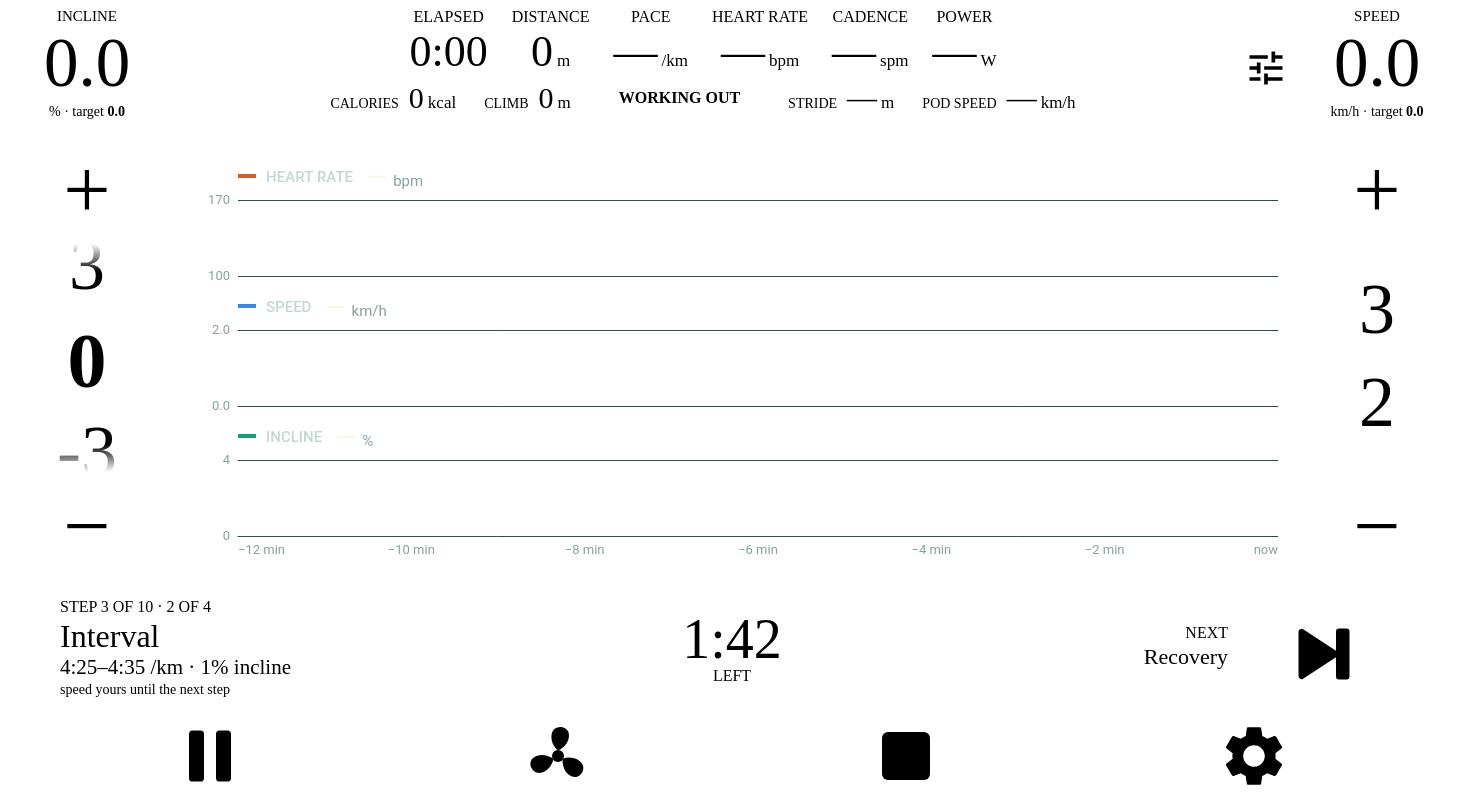
Scenario: workout › shows whose the speed is, and hands it back from the speed menu
(page scrolled)
Click the picture named "Speed: manual": (1266, 68) [1244, 46, 1288, 90]
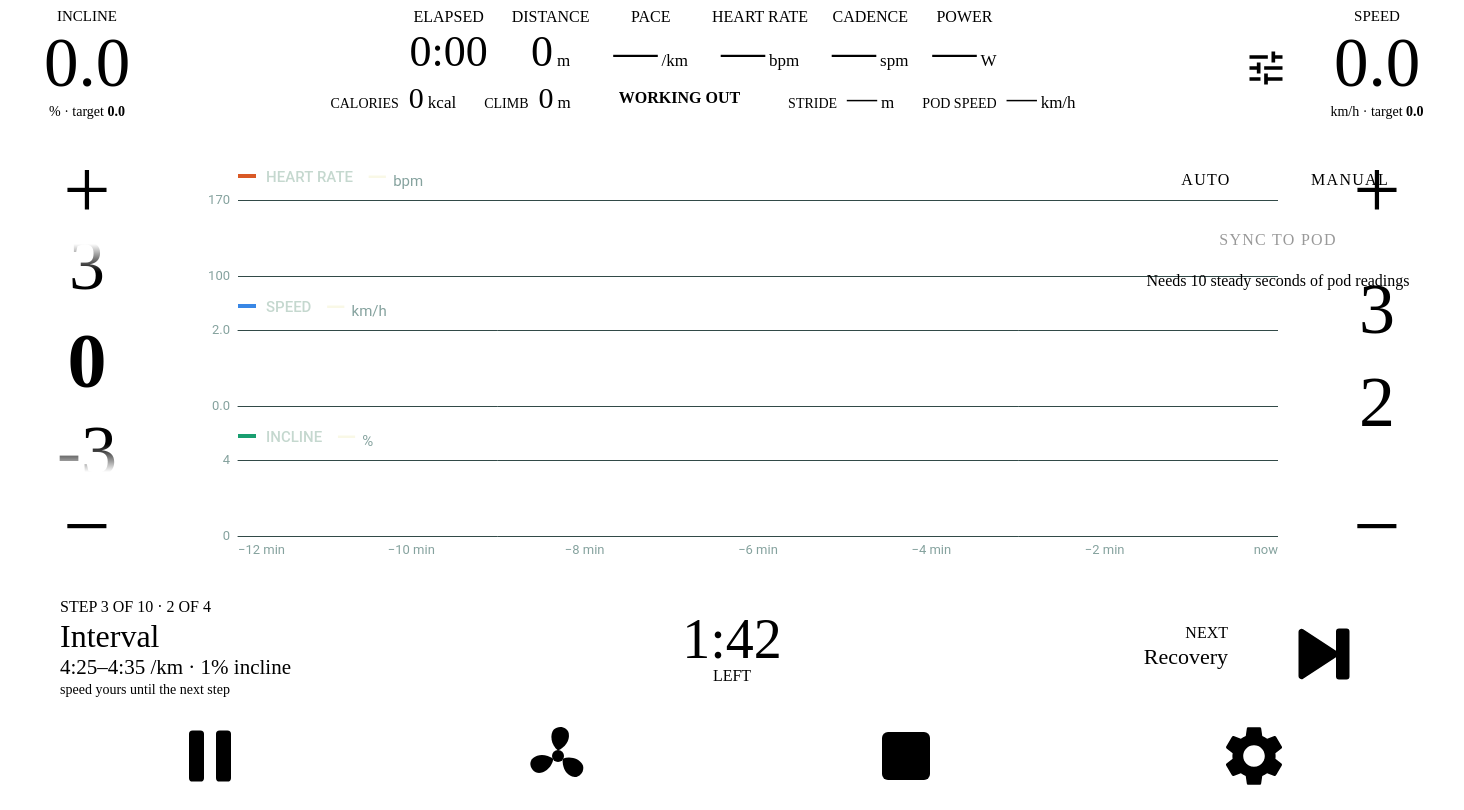
Click the button "AUTO": (1206, 180) [1138, 154, 1274, 206]
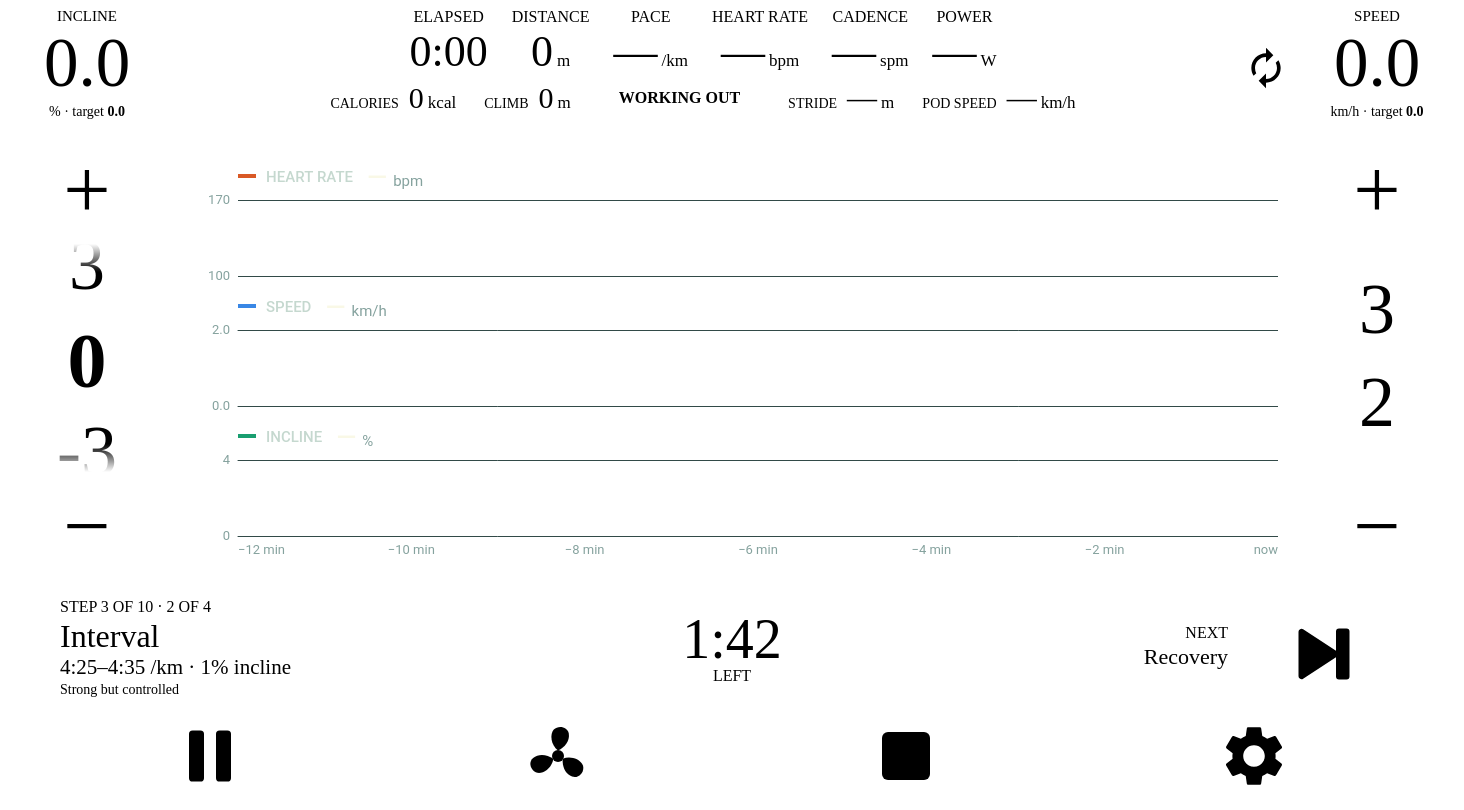
Now the picture named "Speed: auto" is shown, box [1244, 46, 1288, 90]
